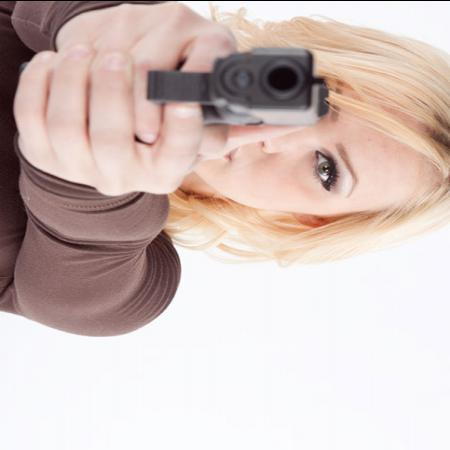Pistol: (144, 42, 332, 129)
